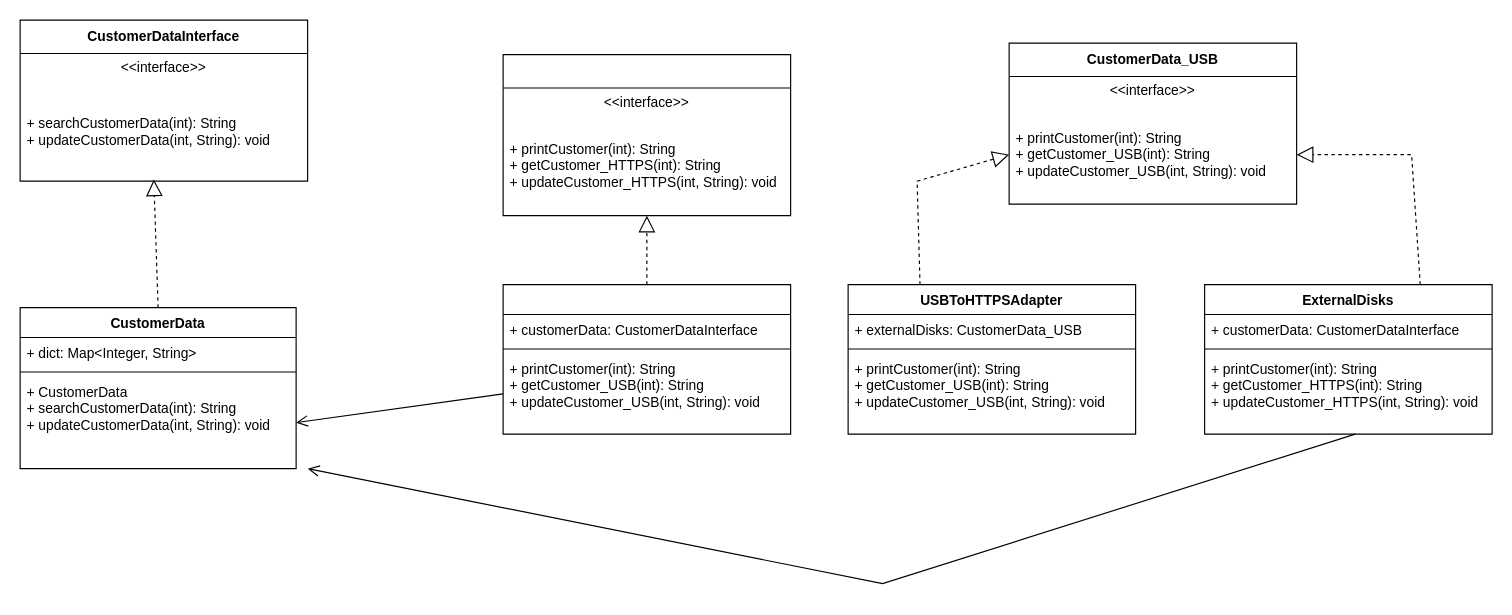
This 1512x615 diagram has some shape labels left out. The shapes that lost their labels are listed below. From the top down, each one's box as (x1, y1, x2, y2) in pixels, then its label:
(502, 53, 791, 216): CustomerData_HTTPS
(502, 283, 791, 434): REST_API
